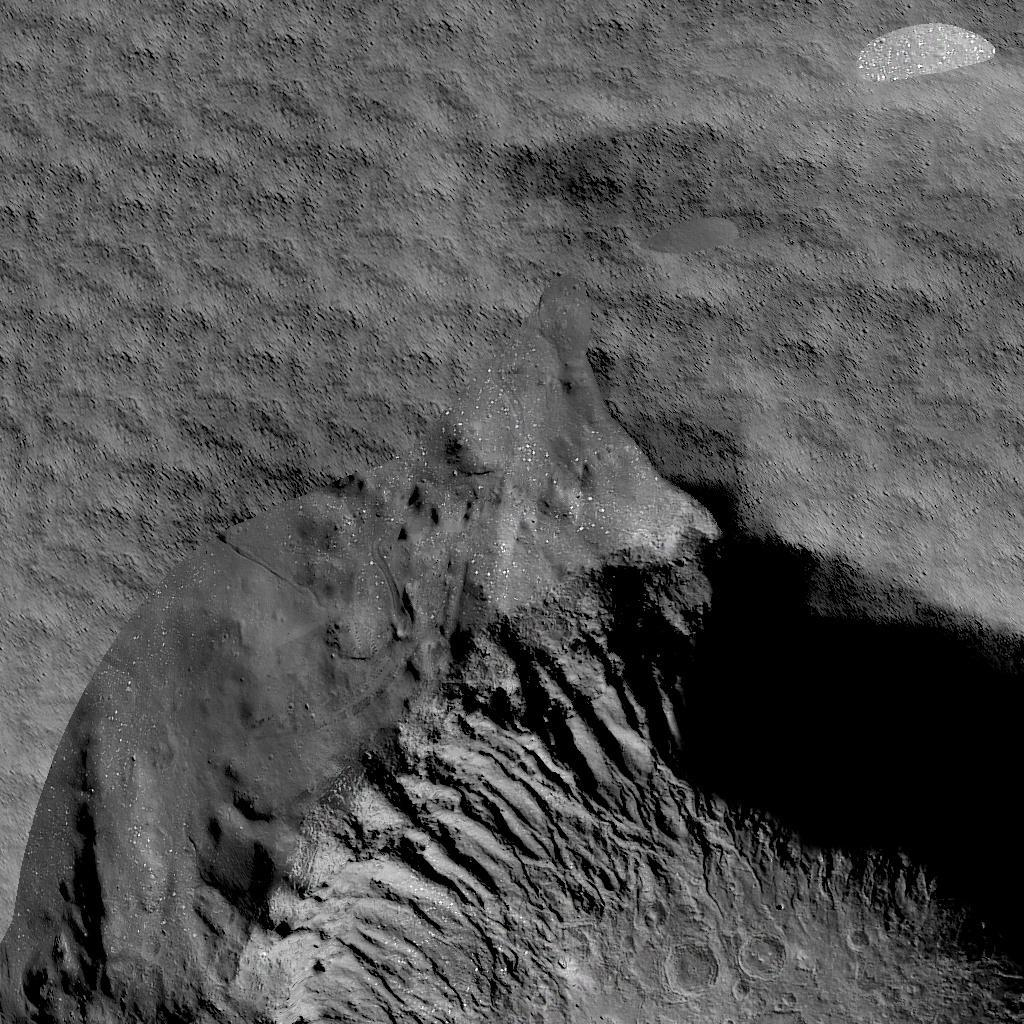Crater: (0, 442, 1024, 1024)
Plan surface: (0, 0, 1024, 430)
